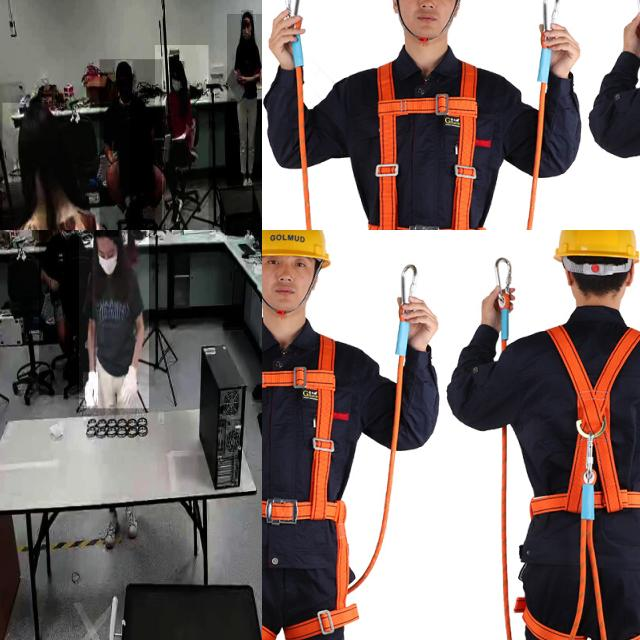Harness: (520, 324, 640, 640), (262, 331, 359, 640), (356, 58, 501, 230)
face_mask: (98, 240, 122, 278), (240, 20, 254, 50), (168, 75, 182, 96)
face_nomask: (117, 78, 133, 101)
hand_glove: (113, 365, 141, 405), (83, 372, 99, 406)
hand_noglove: (49, 277, 60, 295), (237, 73, 248, 85), (109, 151, 119, 163), (253, 63, 261, 75)
head_nohelmet: (18, 104, 58, 142), (115, 60, 133, 75), (169, 61, 185, 73), (93, 230, 119, 237), (241, 10, 253, 20)
person: (2, 102, 130, 230), (78, 230, 149, 409), (100, 59, 162, 230), (155, 45, 209, 230), (39, 230, 92, 396), (227, 14, 262, 192)
shoes: (102, 508, 121, 546)
